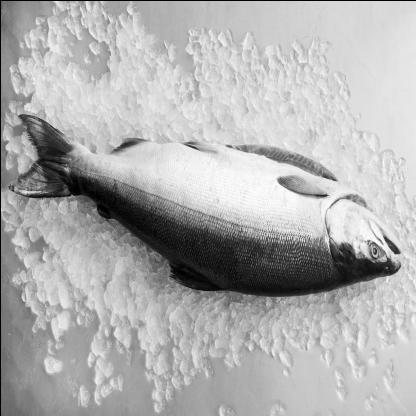fish: (8, 114, 401, 297)
